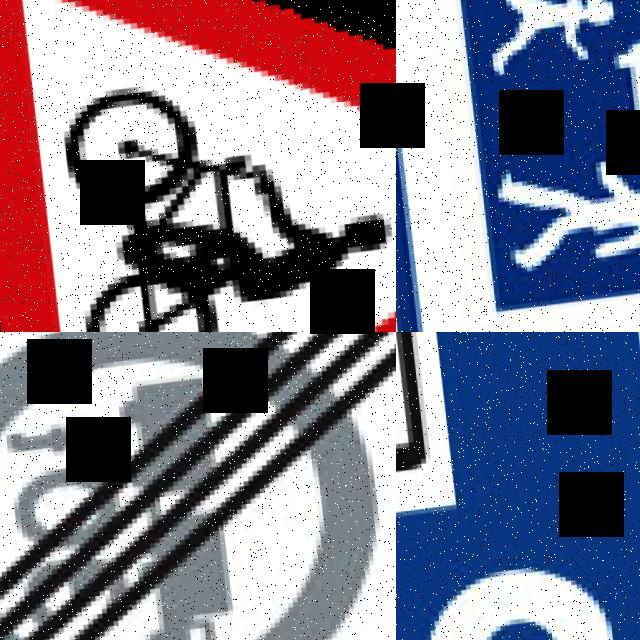111: (0, 332, 396, 640)
52: (396, 0, 640, 332)
60: (396, 332, 640, 640)
Cyclists: (0, 0, 396, 332)
